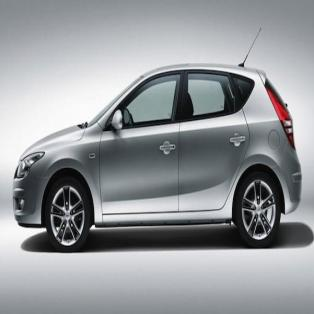Auto: (9, 19, 305, 247)
